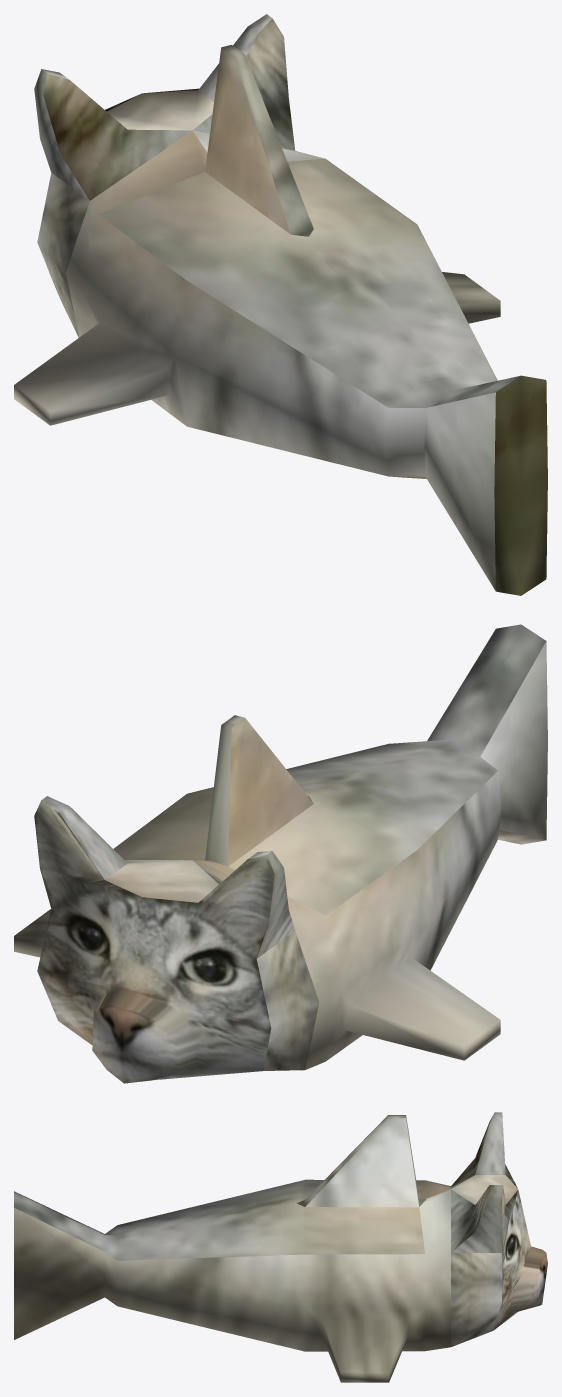
The model's file is Catfih 1.fbx.
The picture shows the model from 3 angles, top to bottom: view 1: azimuth 30°, elevation 25°; view 2: azimuth 150°, elevation 25°; view 3: azimuth 270°, elevation 25°; orthographic projection. The views are drawn at different scales.
Visible parts, largest first — view 1: Cube.003; view 2: Cube.003; view 3: Cube.003.
Boxes of the visible parts, left/top/right/bottom form: Cube.003: left=14, top=14, right=547, bottom=595; Cube.003: left=14, top=624, right=547, bottom=1083; Cube.003: left=14, top=1112, right=547, bottom=1382.
Size of the model in its own units: 128 by 90.47 by 197.
